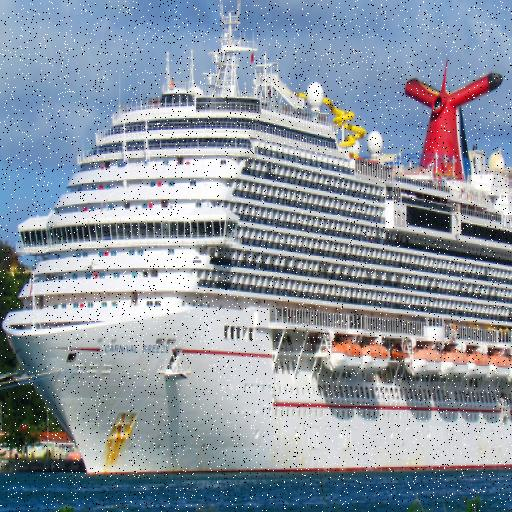cruises: (4, 1, 512, 479)
